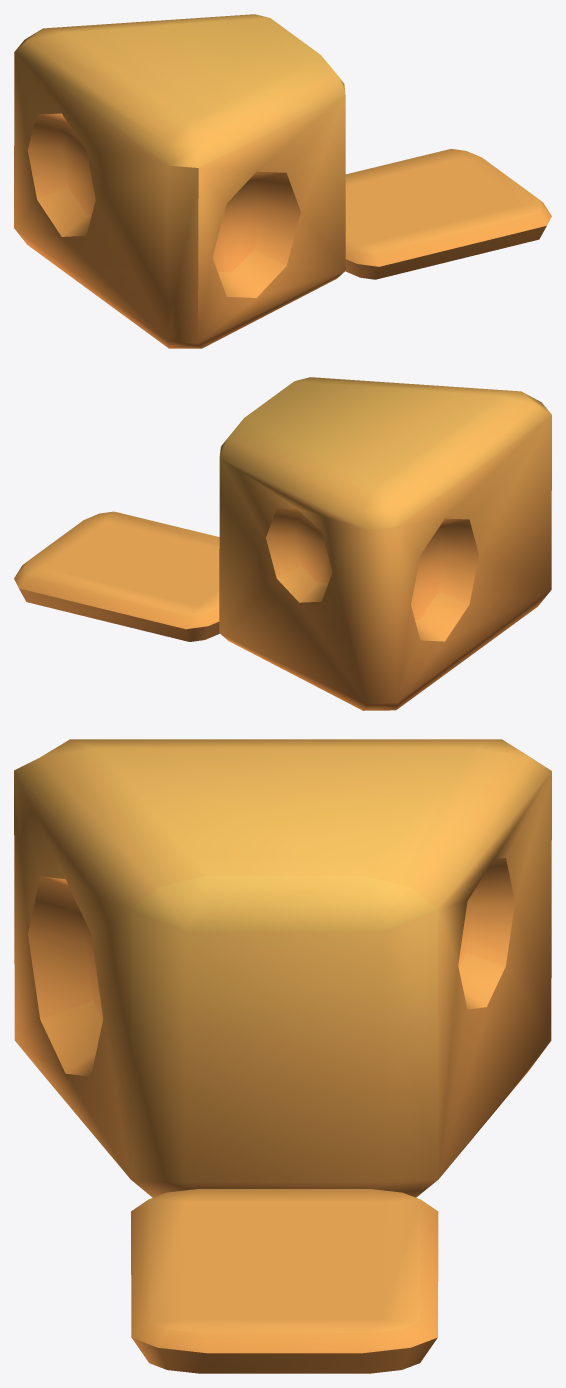
Rendered from kaykit-restaurant-bits-food-ingredient-cheese-chopped.glb.
3 views of the same model, one above another, from view 1: azimuth 30°, elevation 25°; view 2: azimuth 150°, elevation 25°; view 3: azimuth 270°, elevation 25° (orthographic). The views are drawn at different scales.
Parts seen in each view (by area): view 1: food_ingredient_cheese_chopped; view 2: food_ingredient_cheese_chopped; view 3: food_ingredient_cheese_chopped.
Boxes of the visible parts, box(x1,y1,x2,y2) form: food_ingredient_cheese_chopped: box(14, 14, 551, 348); food_ingredient_cheese_chopped: box(14, 377, 551, 710); food_ingredient_cheese_chopped: box(14, 739, 551, 1373).
Bounding box in the file's own units: 1.02 × 0.5 × 0.722.
1 material, 1 textured.
